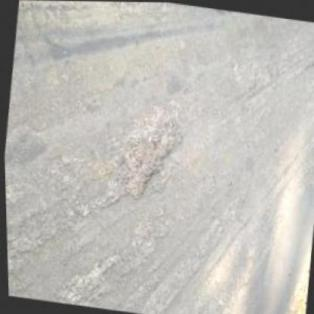Hueco: (112, 122, 178, 206)
